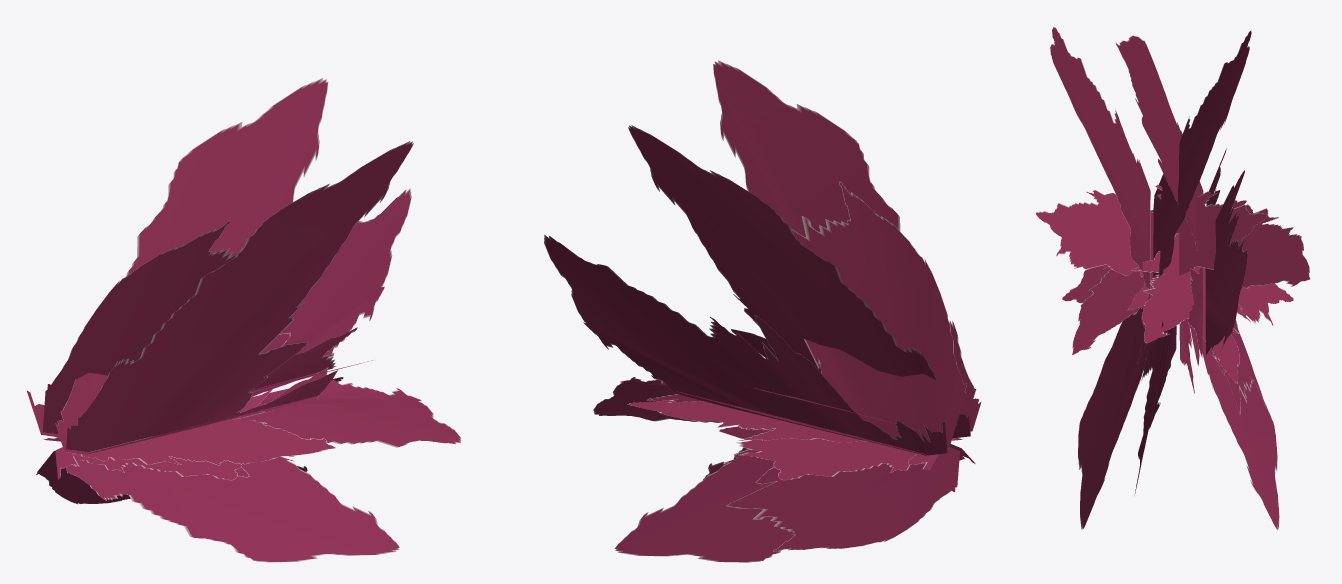
3 views of the same model, side by side, from view 1: azimuth 30°, elevation 25°; view 2: azimuth 150°, elevation 25°; view 3: azimuth 270°, elevation 25° (orthographic). The views are drawn at different scales.
Parts seen in each view (by area): view 1: Wave02, Wave01, Wave004, Wave003; view 2: Wave01, Wave02, Wave003, Wave004; view 3: Wave02, Wave01, Wave004, Wave003.
Part boxes in pixels (left/top/right/bottom): Wave02: left=55, top=78, right=413, bottom=454; Wave01: left=26, top=188, right=411, bottom=437; Wave004: left=55, top=403, right=399, bottom=562; Wave003: left=36, top=366, right=461, bottom=504; Wave01: left=544, top=181, right=966, bottom=455; Wave02: left=628, top=60, right=981, bottom=438; Wave003: left=593, top=377, right=975, bottom=551; Wave004: left=614, top=426, right=967, bottom=562; Wave02: left=1035, top=27, right=1267, bottom=342; Wave01: left=1115, top=35, right=1310, bottom=357; Wave004: left=1062, top=210, right=1293, bottom=530; Wave003: left=1072, top=212, right=1266, bottom=494.
Size of the model in its own units: 3.1 by 1.71 by 3.36.
Materials: 1 (1 with a texture image).
